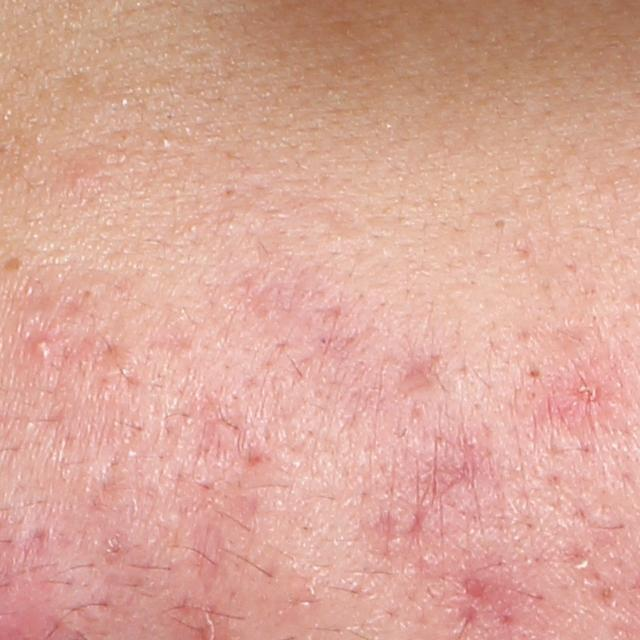atrophic_scar: (396, 348, 447, 392)
comedo: (492, 215, 512, 232), (525, 364, 543, 380), (157, 133, 171, 148)
papule: (553, 354, 619, 424)
pustule: (30, 334, 53, 364)
